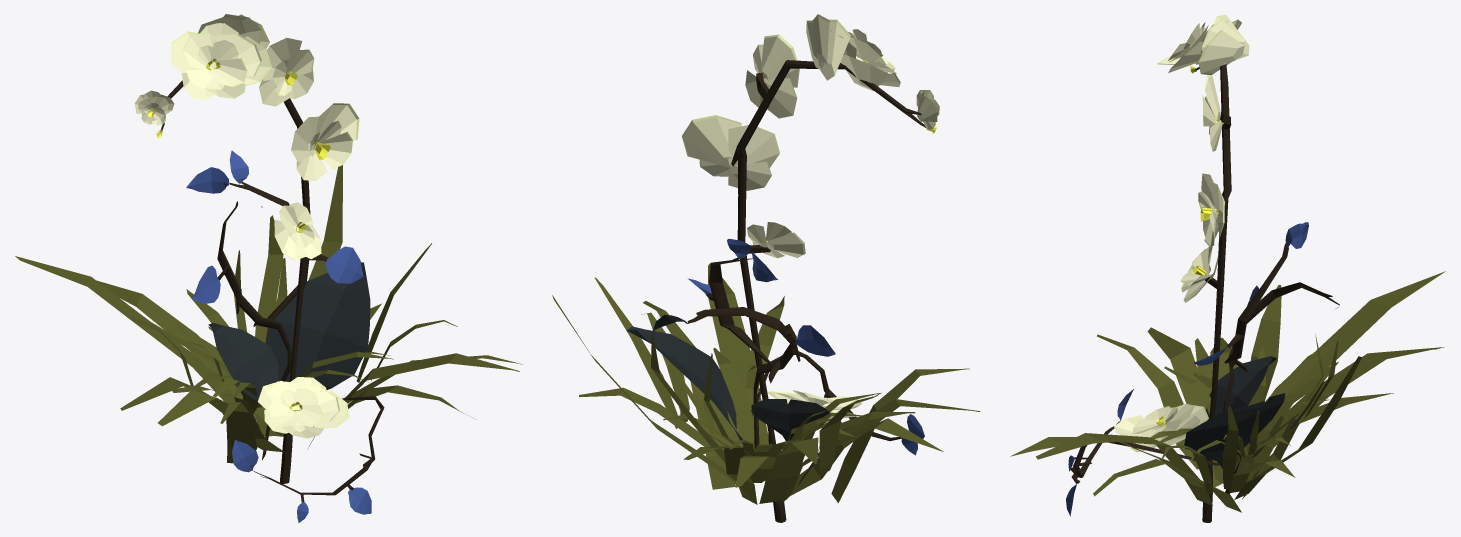
File: flower_5.glb
3 renders of one model, left to right at view 1: azimuth 30°, elevation 25°; view 2: azimuth 150°, elevation 25°; view 3: azimuth 270°, elevation 25°, orthographic. The views are drawn at different scales.
Parts seen in each view (by area): view 1: Flower05Plant; view 2: Flower05Plant; view 3: Flower05Plant.
Part boxes in pixels (<box>): Flower05Plant: <box>15,14,522,522</box>; Flower05Plant: <box>552,14,980,522</box>; Flower05Plant: <box>1010,14,1445,522</box>.
Size of the model in its own units: 0.7581 by 1.01 by 0.8426.
